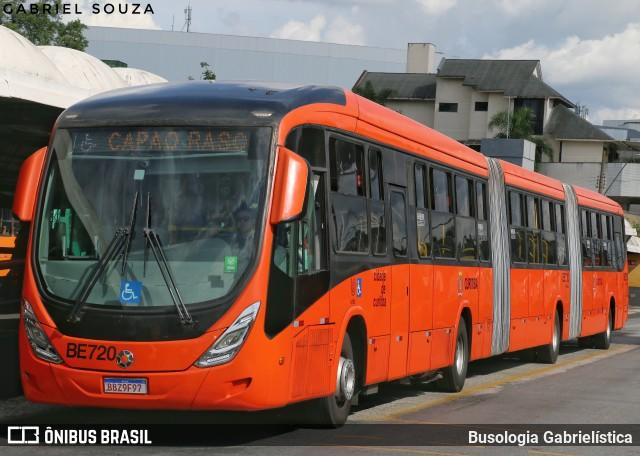CAPAO RASO: (103, 128, 252, 153)
